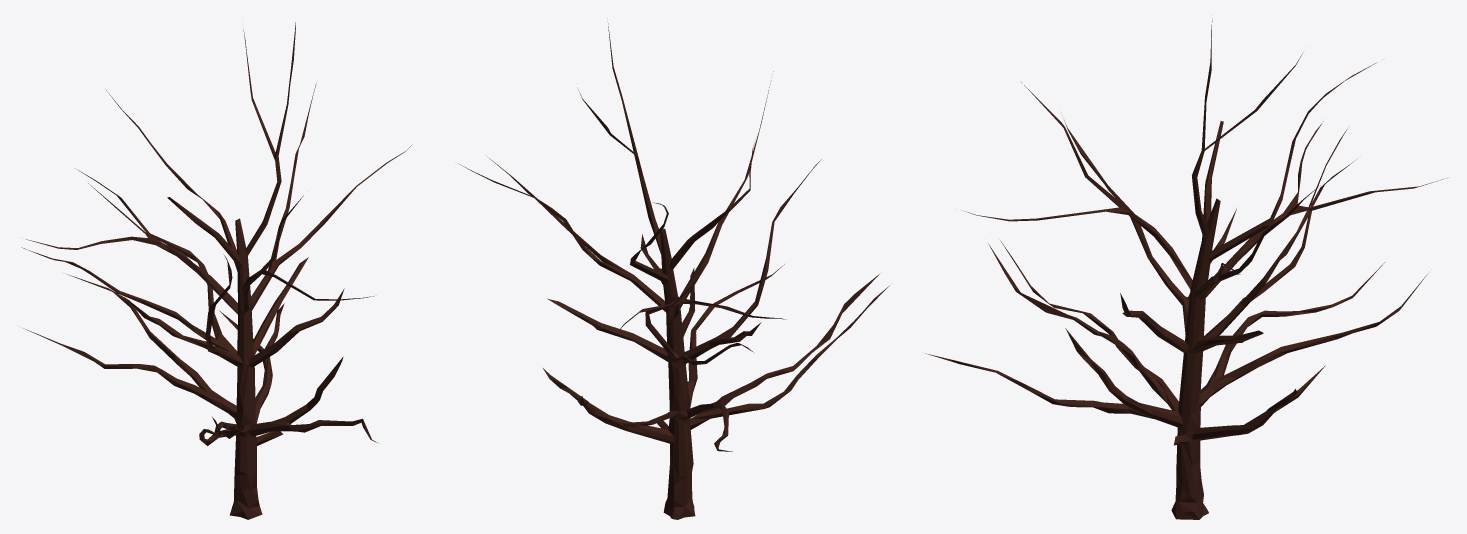
Rendered from dead_tree_j.FBX.
The picture shows the model from 3 angles, left to right: view 1: azimuth 30°, elevation 25°; view 2: azimuth 150°, elevation 25°; view 3: azimuth 270°, elevation 25°; orthographic projection. The views are drawn at different scales.
Parts seen in each view (by area): view 1: dead_tree_j; view 2: dead_tree_j; view 3: dead_tree_j.
Part boxes in pixels (<box>): dead_tree_j: <box>19,22,411,519</box>; dead_tree_j: <box>458,18,889,519</box>; dead_tree_j: <box>925,18,1444,519</box>.
Bounding box in the file's own units: 1411 × 1750 × 1581.
